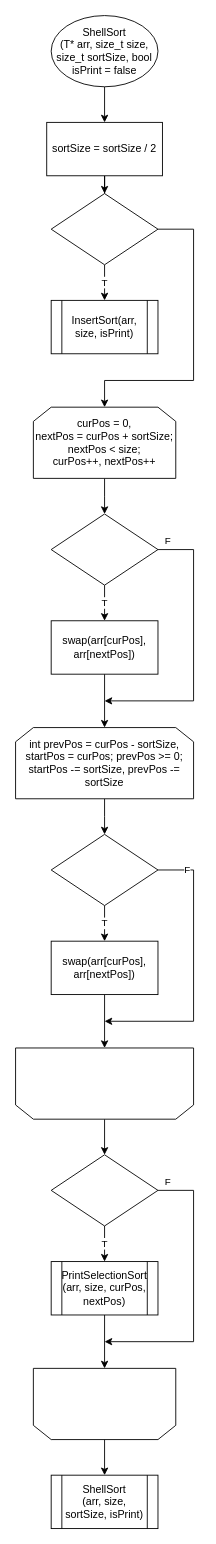
Some shapes in this 216 by 1544 pixel diagram are drawn without their labels. The shapes that lost their labels are listed below. From the top down, each one's centre as x and y in pixels, then its label:
the point at 104,229: sortSize == 0
the point at 104,549: arr[curPos] > arr[nextPos]
the point at 104,869: arr[prevPos] > arr[startPos]
the point at 104,1190: isPrint
